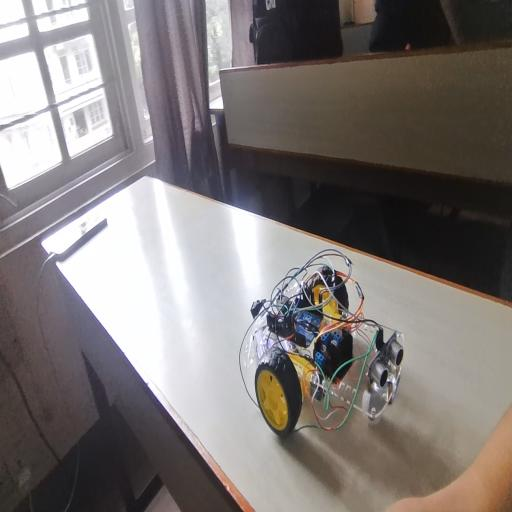car: (238, 266, 430, 469)
